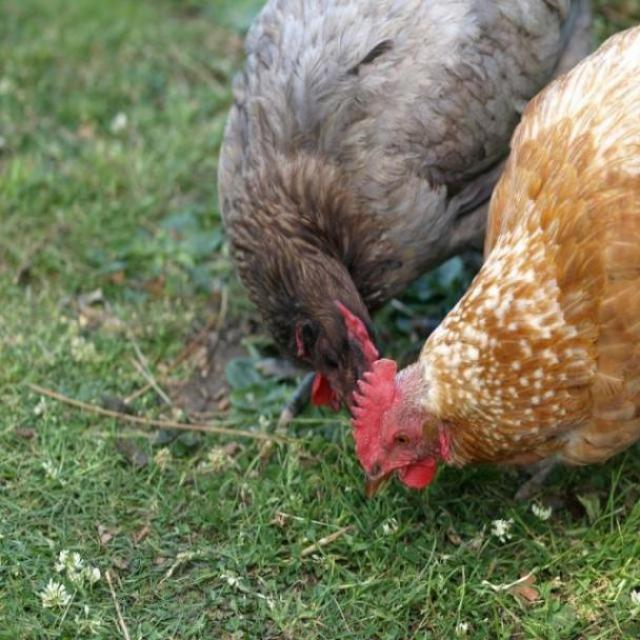Chicken: (211, 0, 603, 421), (347, 22, 640, 517)
